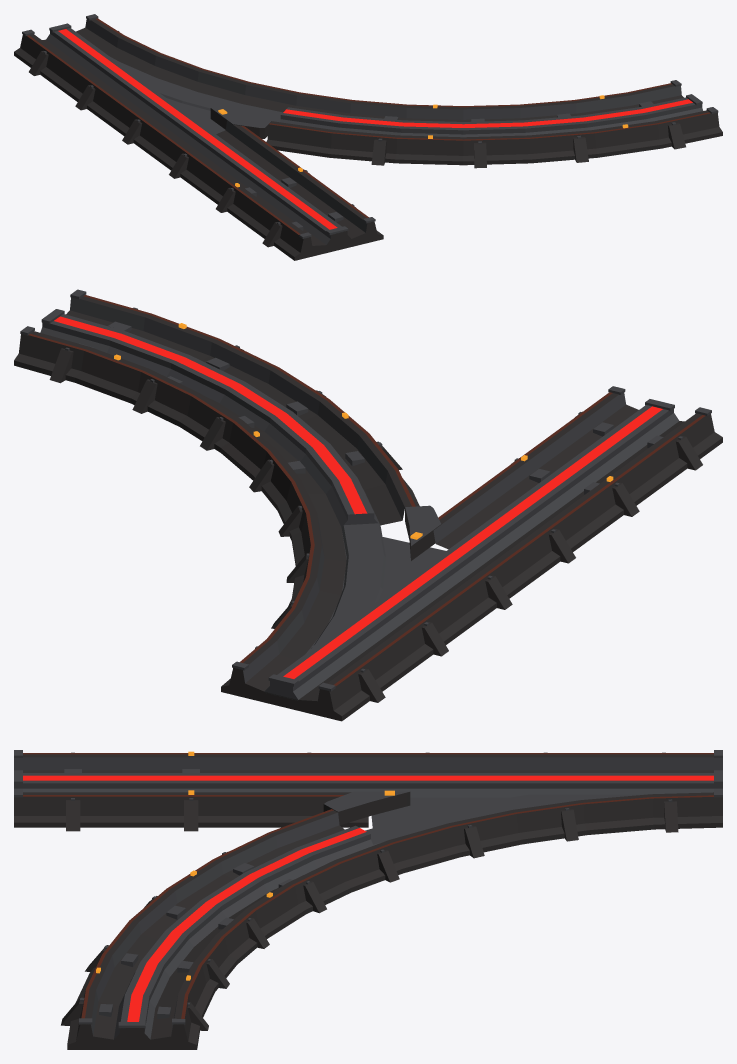
File: maglev_track_fork_left.glb
3 renders of one model, top to bottom at view 1: azimuth 30°, elevation 25°; view 2: azimuth 150°, elevation 25°; view 3: azimuth 270°, elevation 25°, orthographic. The views are drawn at different scales.
Visible parts, largest first — view 1: track_fork_left, track_fork_left_blade_straight; view 2: track_fork_left, track_fork_left_blade_straight; view 3: track_fork_left, track_fork_left_blade_straight.
Part boxes in pixels (bbox=[...]): track_fork_left: bbox=[14, 14, 722, 260]; track_fork_left_blade_straight: bbox=[65, 38, 206, 139]; track_fork_left: bbox=[14, 289, 722, 721]; track_fork_left_blade_straight: bbox=[294, 541, 486, 679]; track_fork_left: bbox=[14, 750, 722, 1049]; track_fork_left_blade_straight: bbox=[368, 773, 678, 794].
Bounding box in the file's own units: 22.5 × 1.06 × 24.
